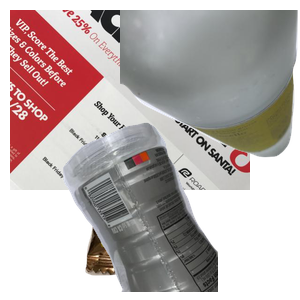glass: (120, 10, 300, 160)
paper: (10, 10, 250, 190)
plastic: (60, 120, 300, 300)
trash: (83, 160, 233, 300)
